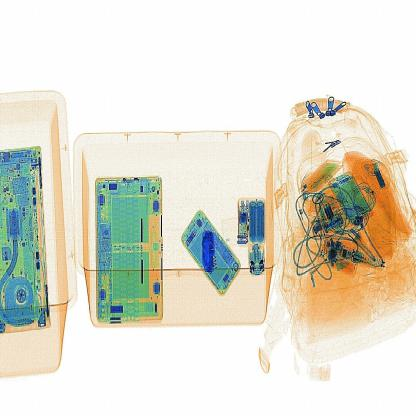scissors: (199, 228, 220, 275)
